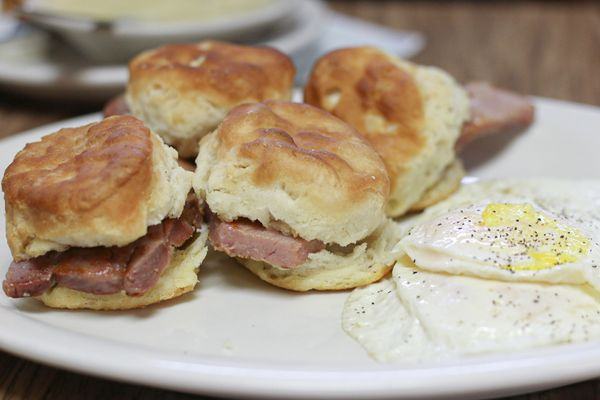soup: (1, 113, 211, 310), (193, 98, 402, 291)
